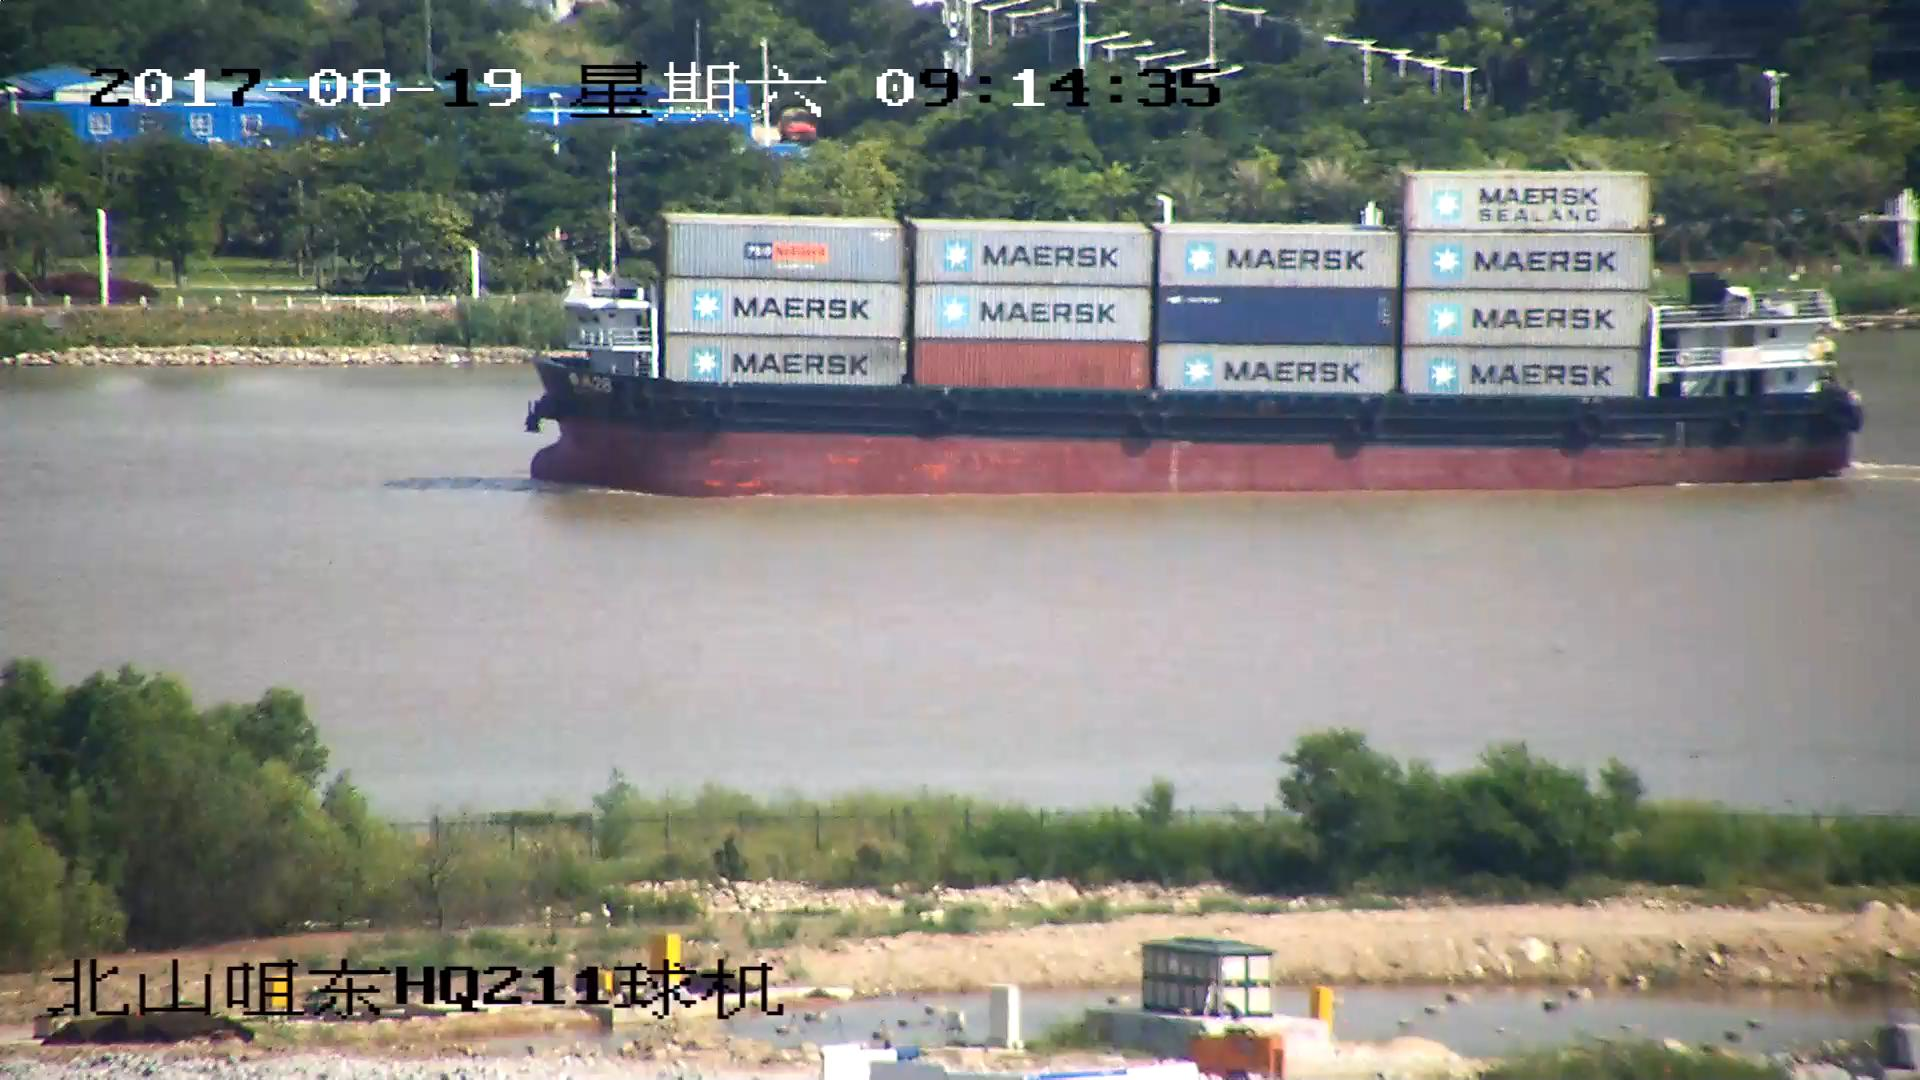container ship: (519, 163, 1864, 497)
